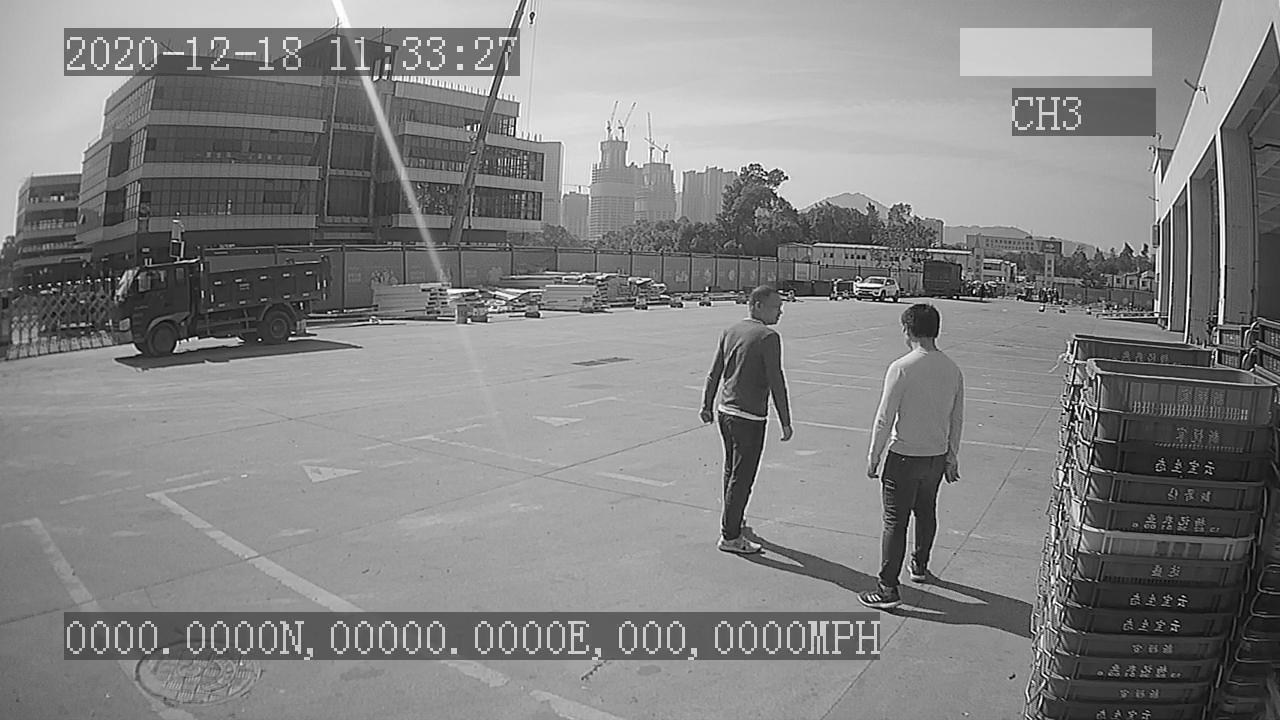person: (855, 298, 963, 613), (697, 280, 793, 552)
